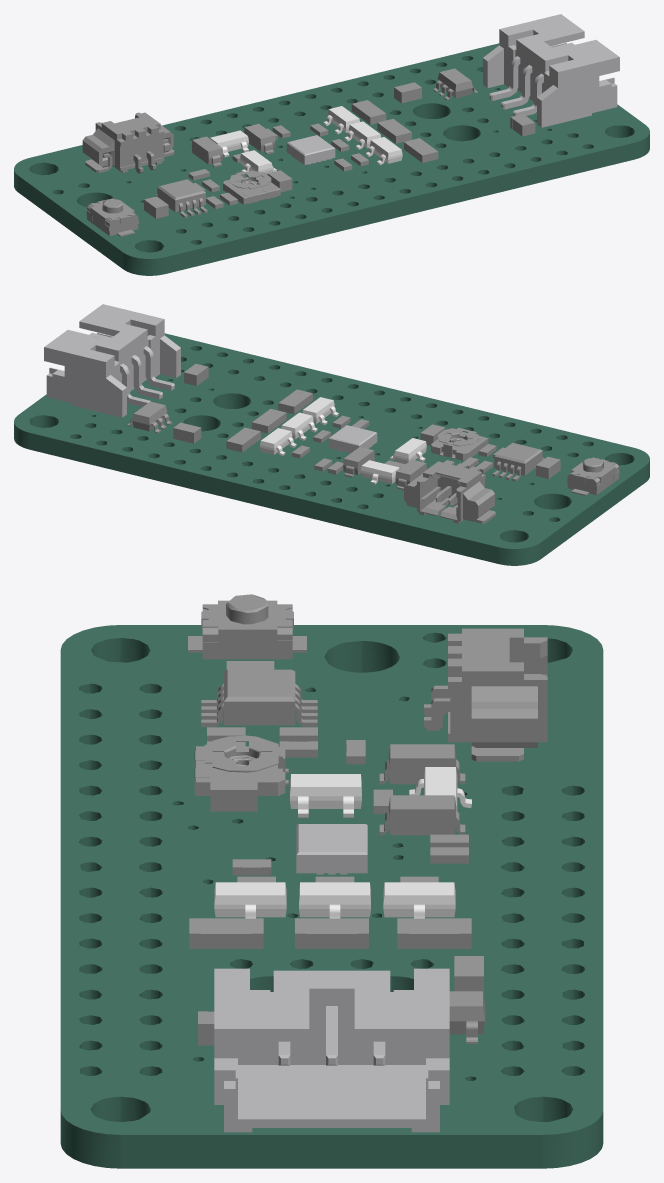
The model's file is ada-3988.glb.
3 views of the same model, one above another, from view 1: azimuth 30°, elevation 25°; view 2: azimuth 150°, elevation 25°; view 3: azimuth 270°, elevation 25° (orthographic). The views are drawn at different scales.
Parts seen in each view (by area): view 1: 0.08333333333333333_0.16666666666666666_0.16666666666666666_, 0.3333333333333333_0.3333333333333333_0.3333333333333333_0, 0.5833333333333334_0.5833333333333334_0.5833333333333334_0.8, 0.9166666666666666_0.9166666666666666_0.9166666666666666_0.8; view 2: 0.08333333333333333_0.16666666666666666_0.16666666666666666_, 0.3333333333333333_0.3333333333333333_0.3333333333333333_0, 0.5833333333333334_0.5833333333333334_0.5833333333333334_0.8, 0.9166666666666666_0.9166666666666666_0.9166666666666666_0.8; view 3: 0.08333333333333333_0.16666666666666666_0.16666666666666666_, 0.3333333333333333_0.3333333333333333_0.3333333333333333_0, 0.5833333333333334_0.5833333333333334_0.5833333333333334_0.8, 0.9166666666666666_0.9166666666666666_0.9166666666666666_0.8.
Boxes of the visible parts, box(x1,y1,x2,y2) form: 0.08333333333333333_0.16666666666666666_0.16666666666666666_: box(14, 43, 649, 275); 0.3333333333333333_0.3333333333333333_0.3333333333333333_0: box(82, 68, 535, 236); 0.5833333333333334_0.5833333333333334_0.5833333333333334_0.8: box(286, 14, 619, 164); 0.9166666666666666_0.9166666666666666_0.9166666666666666_0.8: box(210, 106, 402, 174); 0.08333333333333333_0.16666666666666666_0.16666666666666666_: box(14, 333, 649, 565); 0.3333333333333333_0.3333333333333333_0.3333333333333333_0: box(127, 364, 619, 523); 0.5833333333333334_0.5833333333333334_0.5833333333333334_0.8: box(44, 304, 377, 453); 0.9166666666666666_0.9166666666666666_0.9166666666666666_0.8: box(260, 397, 426, 484); 0.08333333333333333_0.16666666666666666_0.16666666666666666_: box(60, 625, 603, 1168); 0.3333333333333333_0.3333333333333333_0.3333333333333333_0: box(188, 594, 547, 1045); 0.5833333333333334_0.5833333333333334_0.5833333333333334_0.8: box(214, 824, 449, 1132); 0.9166666666666666_0.9166666666666666_0.9166666666666666_0.8: box(214, 767, 471, 918).
Size of the model in its own units: 5.08 by 0.637 by 2.29.
